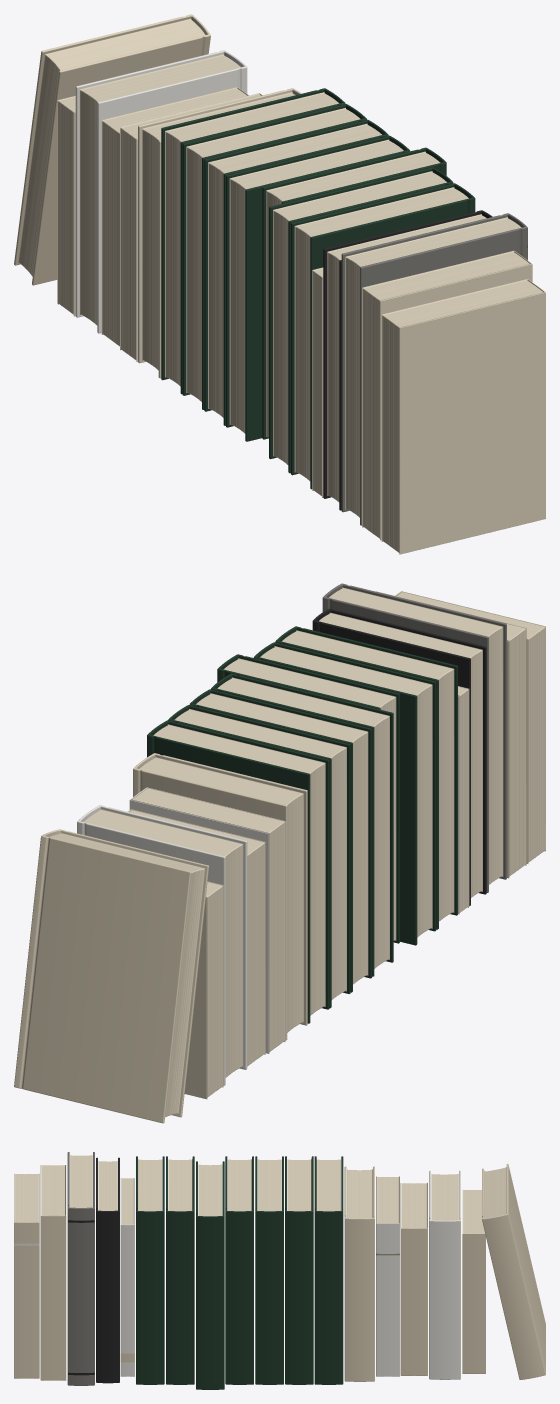
Rendered from books_main.fbx.
3 views of the same model, one above another, from view 1: azimuth 30°, elevation 25°; view 2: azimuth 150°, elevation 25°; view 3: azimuth 270°, elevation 25° (orthographic). The views are drawn at different scales.
Parts seen in each view (by area): view 1: books_main; view 2: books_main; view 3: books_main.
Boxes of the visible parts, left/top/right/bottom form: books_main: left=14, top=14, right=545, bottom=554; books_main: left=14, top=583, right=545, bottom=1123; books_main: left=14, top=1152, right=545, bottom=1389.
Bounding box in the file's own units: 0.1802 × 0.6673 × 0.2463.
